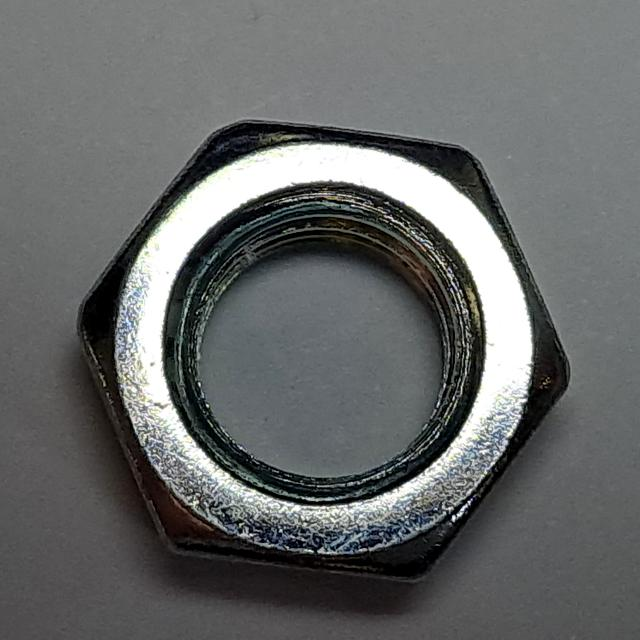Excellent: (62, 98, 580, 598)
